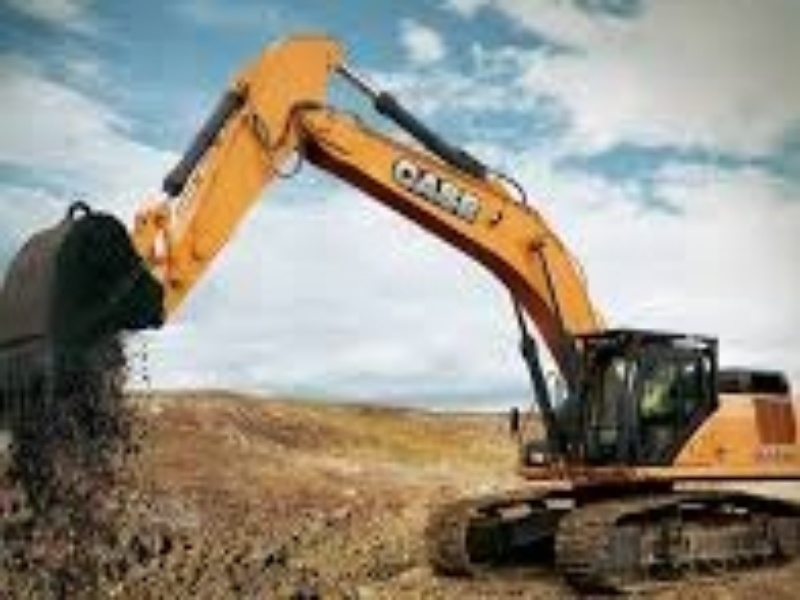wajueji: (454, 311, 800, 589)
